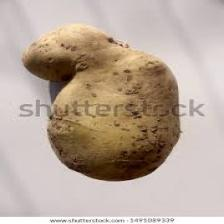Damaged potato: (19, 19, 192, 187)
